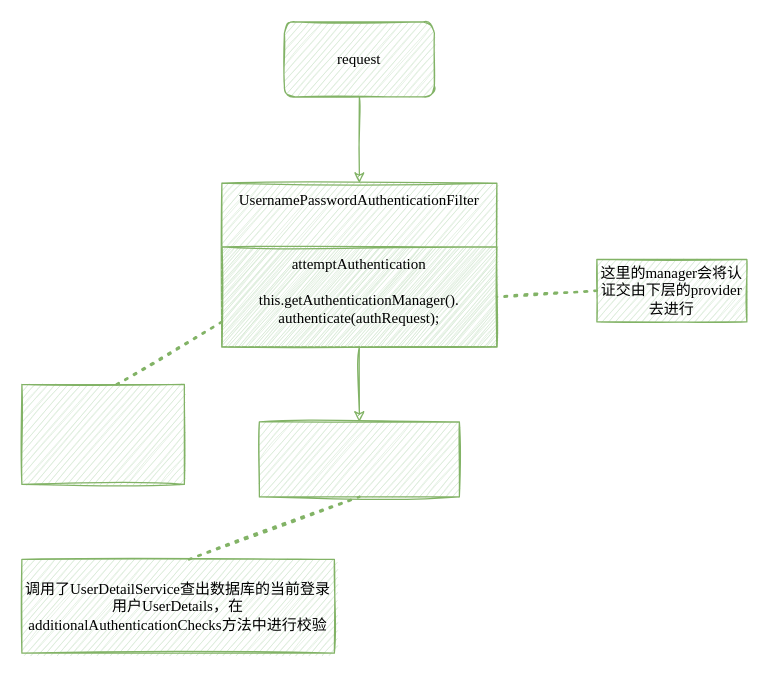
This 769x675 diagram has some shape labels left out. Each missing label, with the box of its shape:
账号密码方式采用的provider是DaoAuthenticationProvider: (258, 421, 459, 497)
这里的authRequest是AuthenticationToken，是通过前端传来的username,password封装出来的对象: (21, 383, 184, 484)
